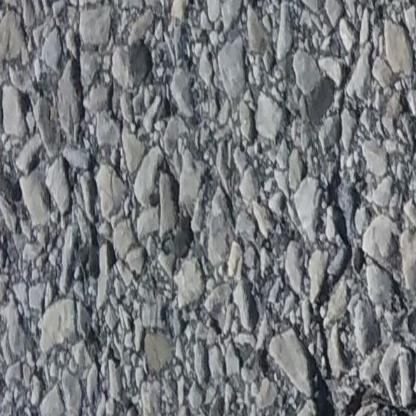Cracks: (299, 335, 416, 416)
